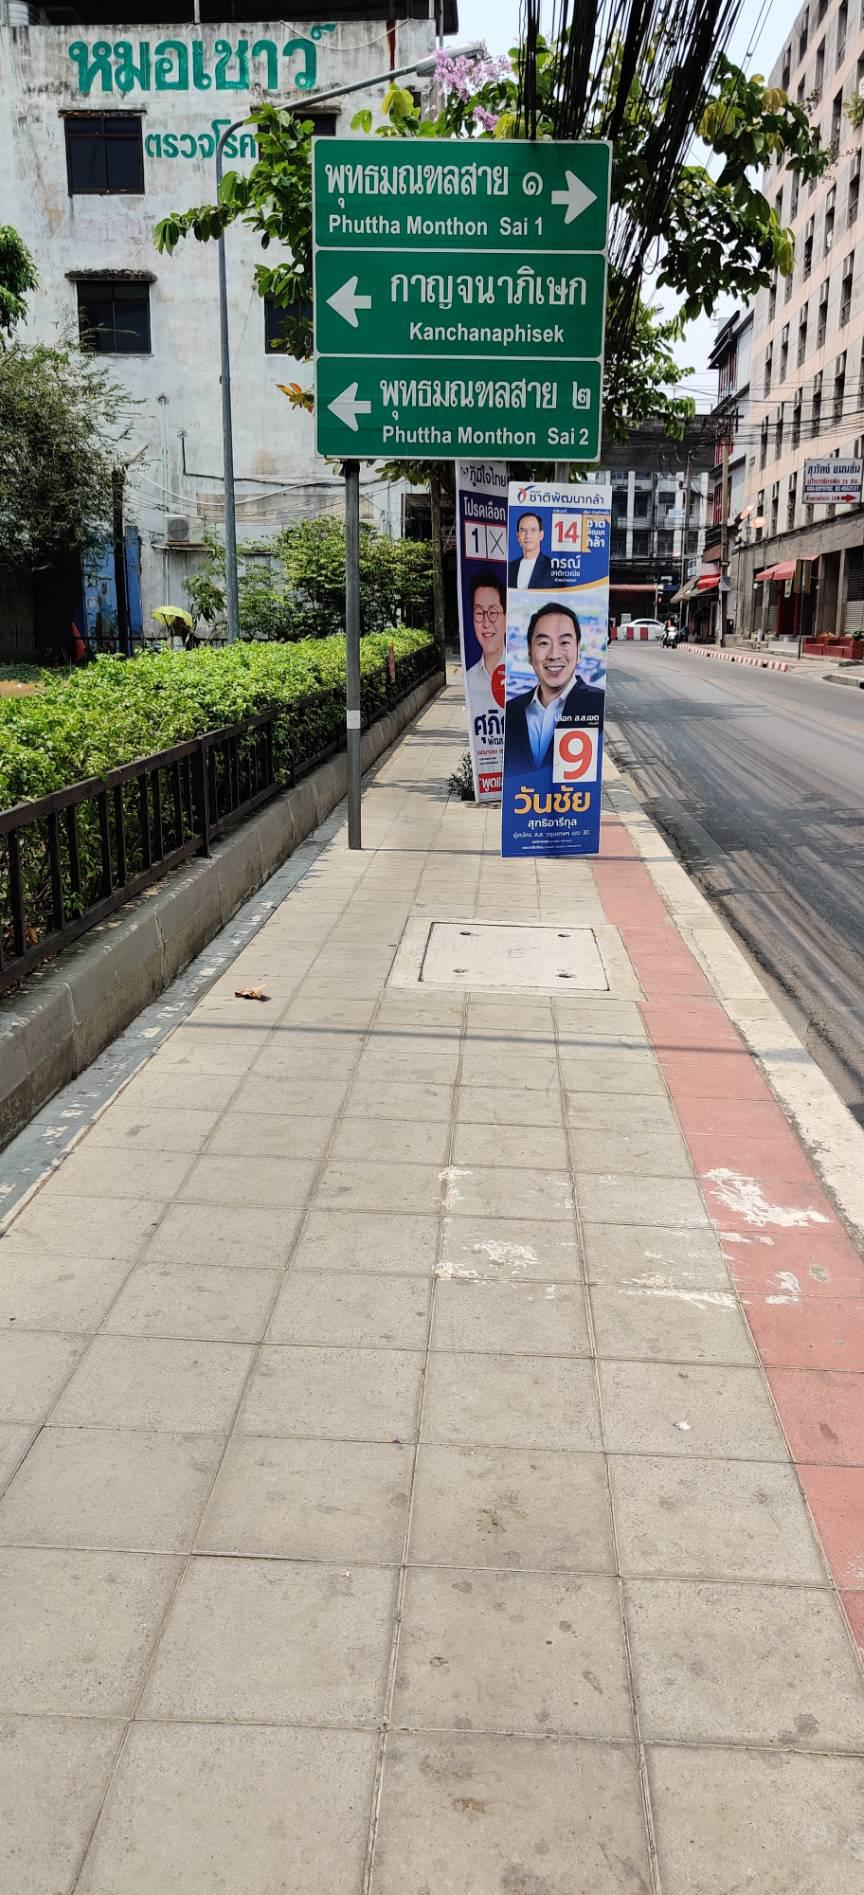Banner: (509, 477, 619, 860), (441, 473, 524, 804)
